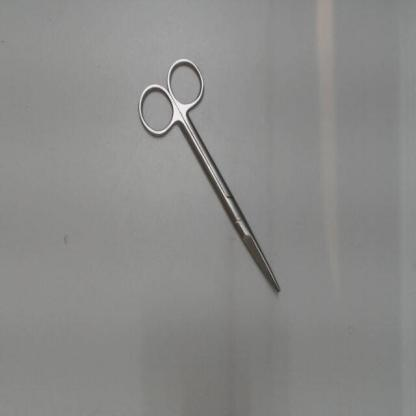Curved Mayo Scissors: (132, 52, 284, 295)
